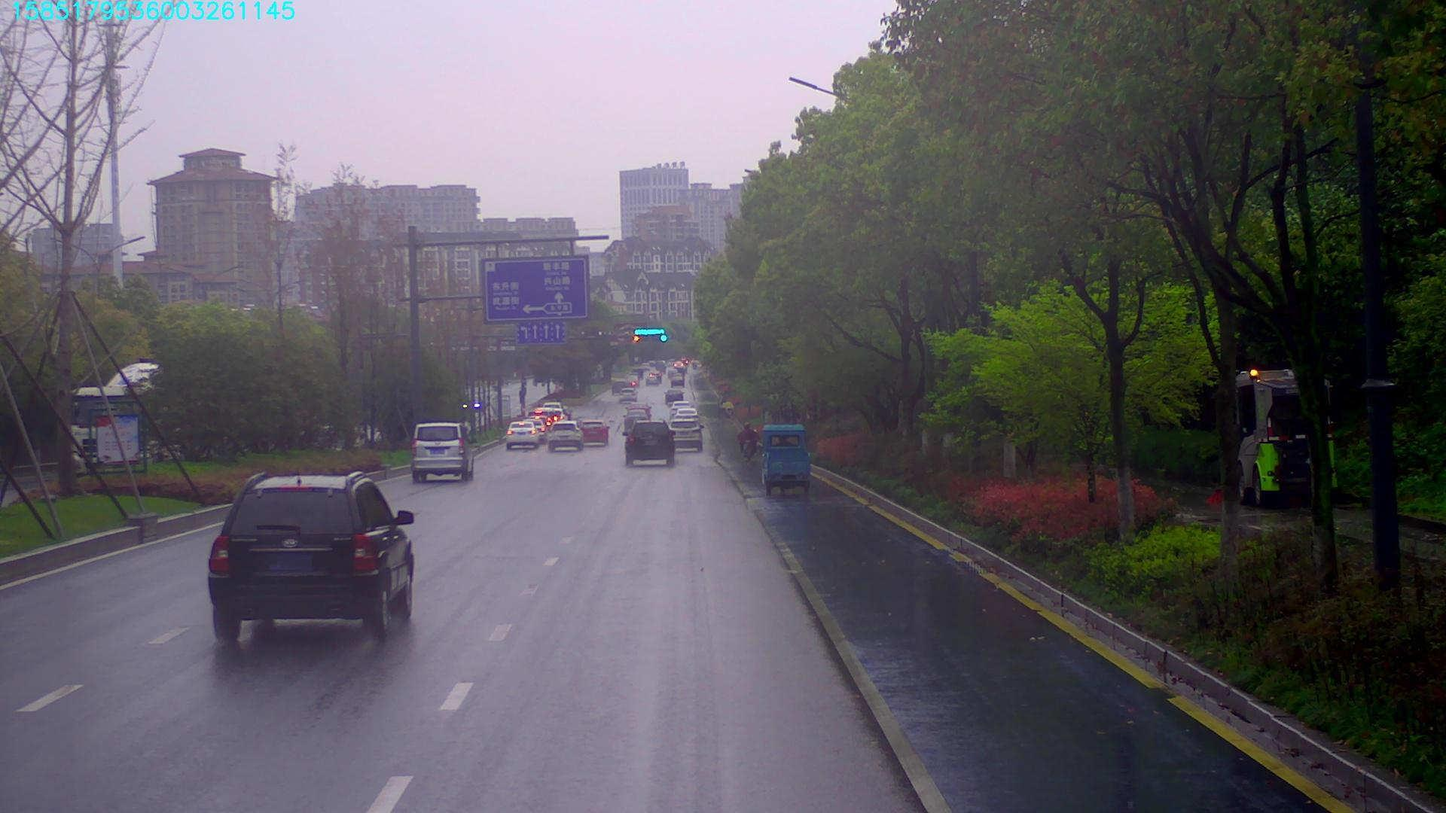green: (632, 325, 669, 333), (653, 333, 667, 342)
red: (631, 333, 651, 342)
